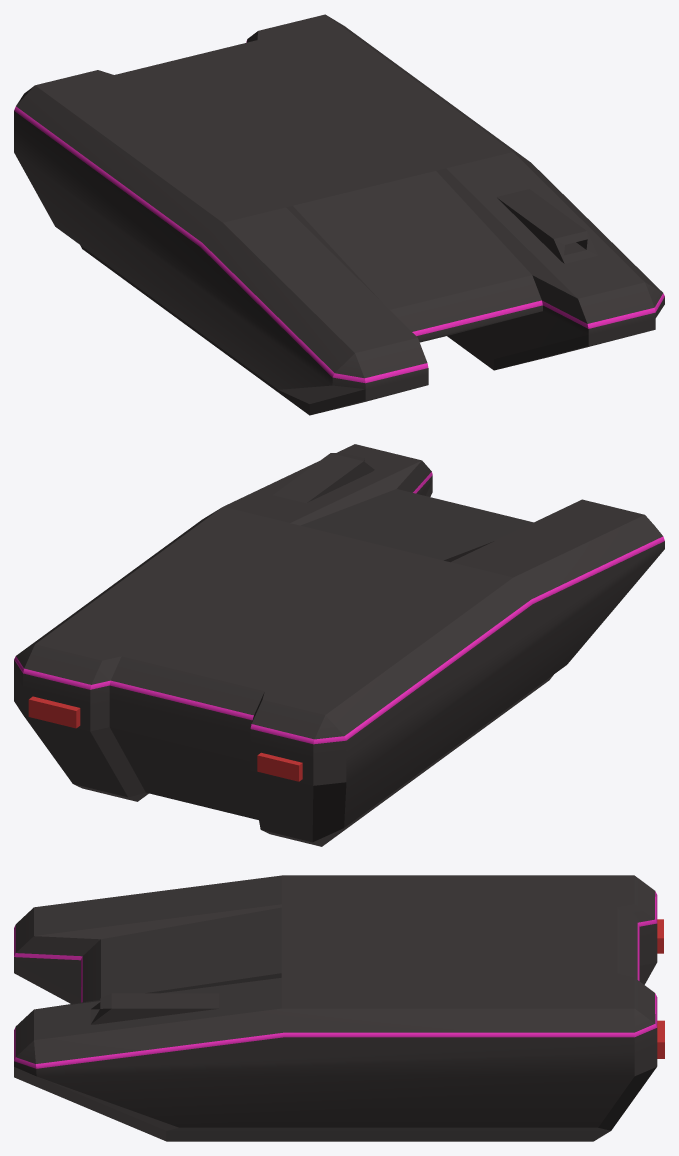
File: Tank bottom.fbx
3 renders of one model, top to bottom at view 1: azimuth 30°, elevation 25°; view 2: azimuth 150°, elevation 25°; view 3: azimuth 270°, elevation 25°, orthographic. The views are drawn at different scales.
Parts seen in each view (by area): view 1: pCube1; view 2: pCube1; view 3: pCube1.
Part boxes in pixels (left/top/right/bottom): pCube1: left=14, top=14, right=664, bottom=415; pCube1: left=14, top=444, right=664, bottom=846; pCube1: left=14, top=875, right=664, bottom=1141.
Bounding box in the file's own units: 1.51 × 0.6692 × 2.73.
